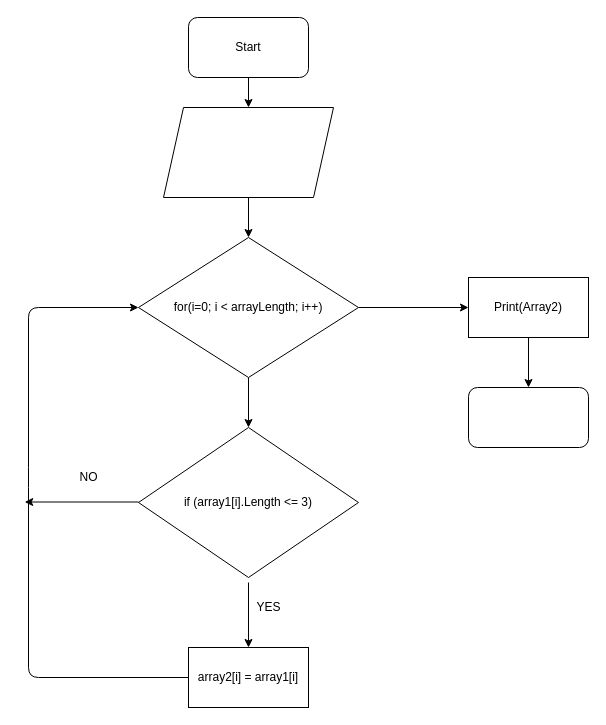
The diagram is 606 pixels wide and 725 high, and some of its shapes have lost their labels. The box of each missing label's shape, as (x1, y1, x2, y2) in pixels:
arrayLength array1[arrayLength] array2[arrayLength]: (162, 106, 334, 198)
End: (468, 386, 588, 448)
